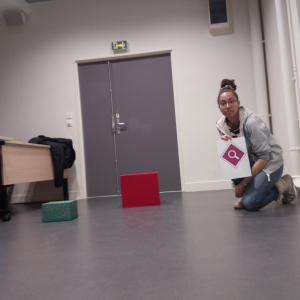search: (221, 142, 246, 167)
